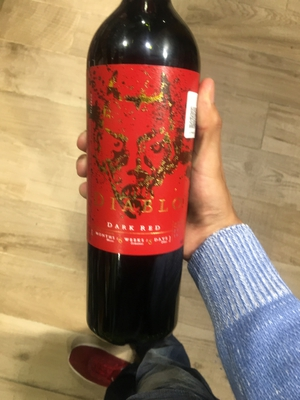diablo dark red: (82, 2, 202, 354)
